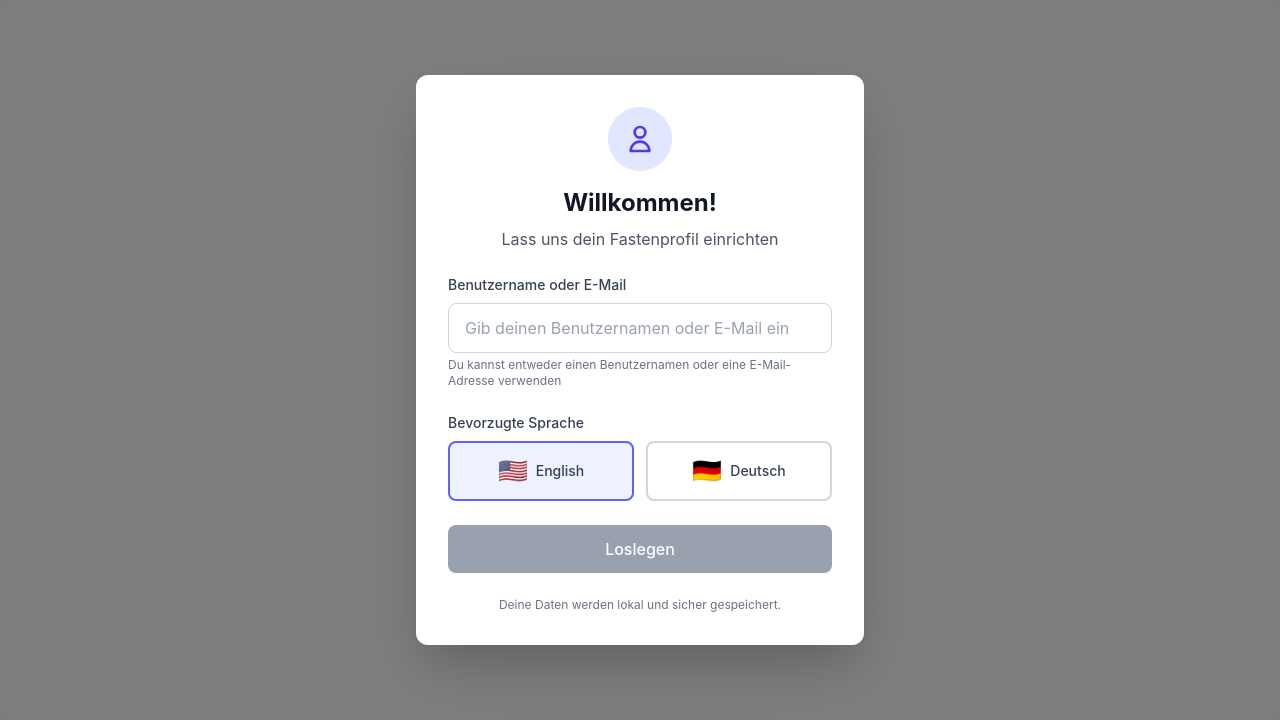
UserSetup Component › Username Already Exists Scenario › should display USER_EXISTS error when username already exists
Note: Fill in the username field
Type "existinguser" into the field with id "identifier" at (640, 328), box [448,303,832,353]
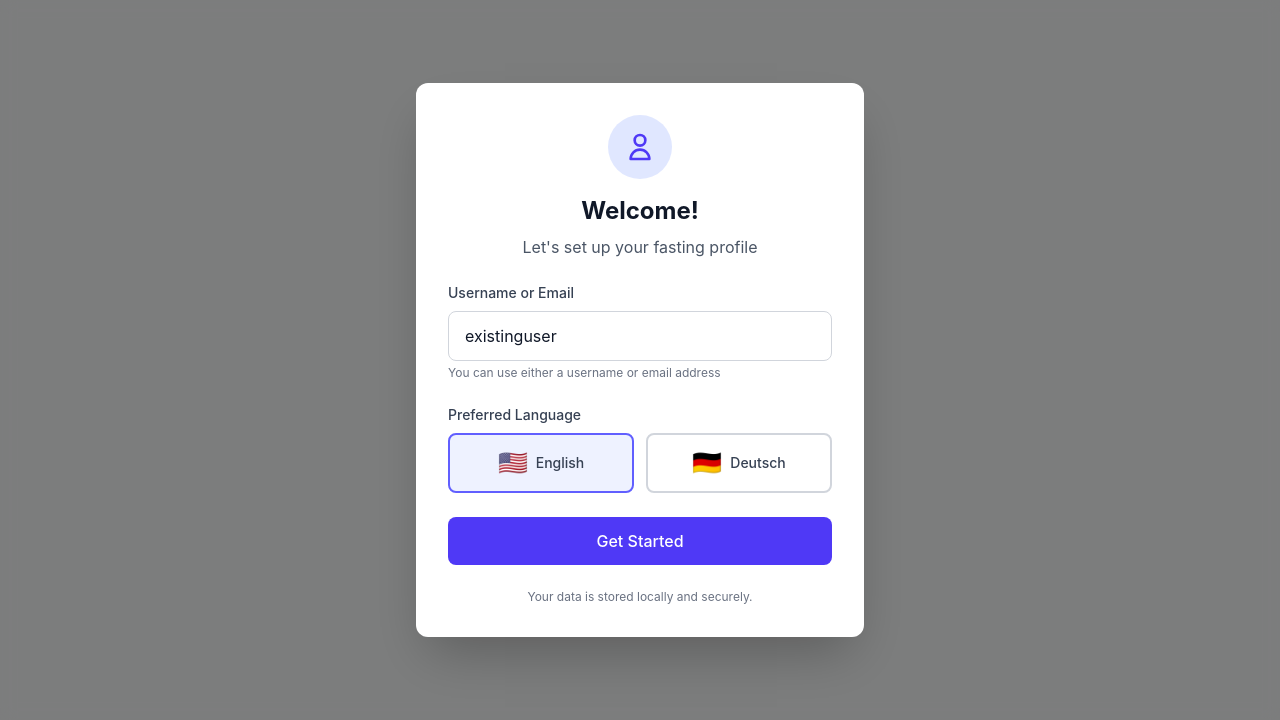
Note: Submit the form
Submit the form, box [448,283,832,565]
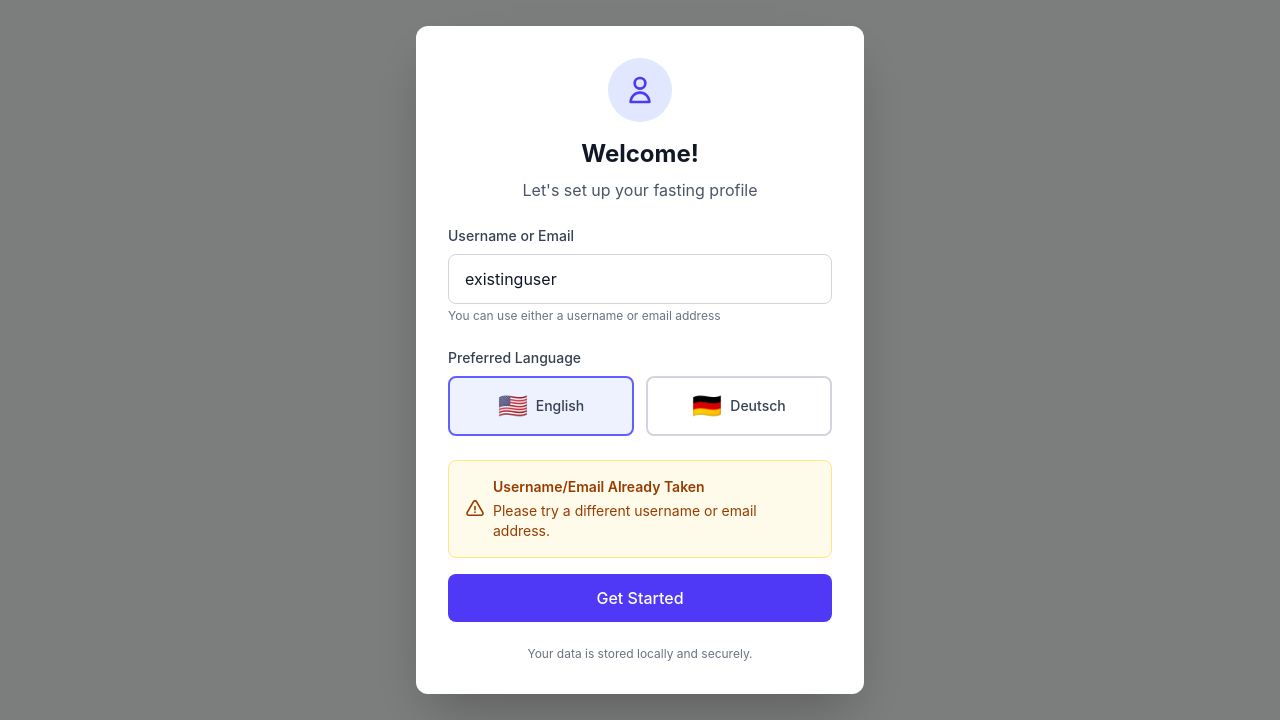
Now the element that starts with "Username/Email Already Taken" is shown, box [448,460,832,558]
Now the text "Username/Email Already Taken" is shown, box [493,478,705,495]
Now the text "Please try a different username or email address" is shown, box [493,502,757,539]
